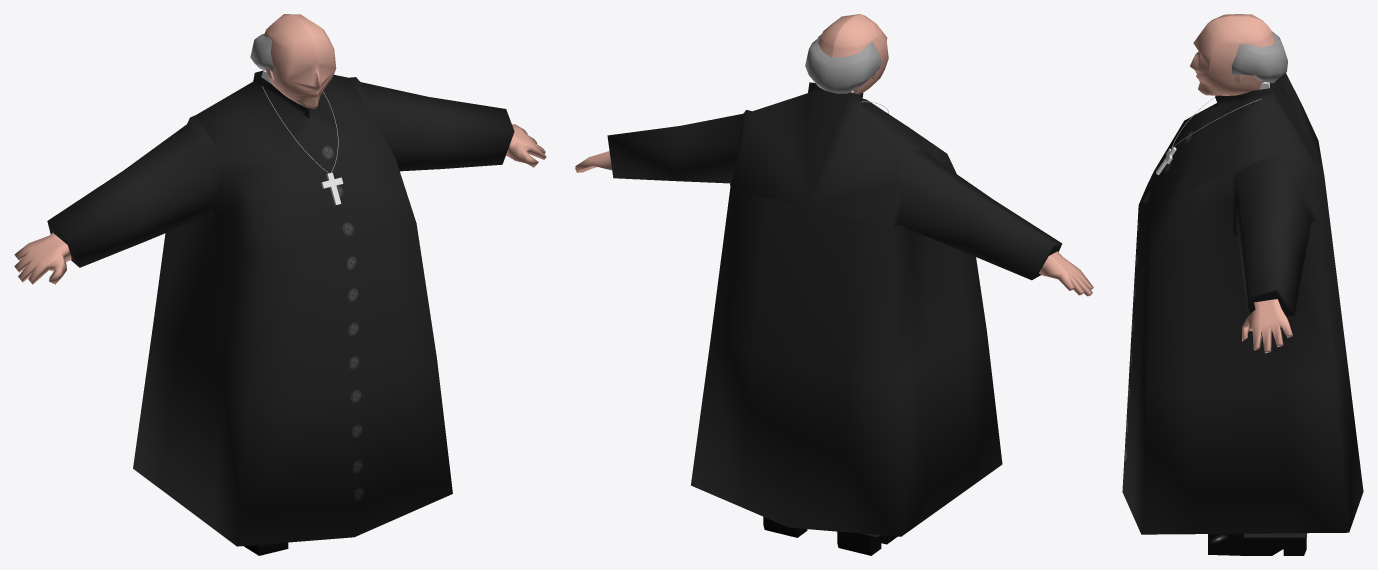
Rendered from priest_Tpose.fbx.
3 renders of one model, left to right at view 1: azimuth 30°, elevation 25°; view 2: azimuth 150°, elevation 25°; view 3: azimuth 270°, elevation 25°, orthographic. The views are drawn at different scales.
Visible parts, largest first — view 1: Cube.004, Plane.001, hand, Plane.002; view 2: Cube.004, Plane.002, Plane.001, hand, Cube; view 3: Cube.004, Plane.001, Cube, Plane.002, hand, Cube.005, Cube.001.
Boxes of the visible parts, x1=… form: Cube.004: x1=47, y1=70, x2=514, y2=546; Plane.001: x1=263, y1=14, x2=336, y2=108; hand: x1=14, y1=124, x2=546, y2=284; Plane.002: x1=250, y1=34, x2=273, y2=72; Cube.004: x1=607, y1=82, x2=1062, y2=536; Plane.002: x1=805, y1=34, x2=881, y2=93; Plane.001: x1=818, y1=14, x2=888, y2=94; hand: x1=575, y1=151, x2=1093, y2=296; Cube: x1=763, y1=517, x2=897, y2=555; Cube.004: x1=1122, y1=73, x2=1363, y2=534; Plane.001: x1=1189, y1=14, x2=1275, y2=95; Cube: x1=1208, y1=533, x2=1306, y2=555; Plane.002: x1=1231, y1=31, x2=1287, y2=82; hand: x1=1242, y1=299, x2=1292, y2=353; Cube.005: x1=1156, y1=97, x2=1261, y2=175; Cube.001: x1=1243, y1=533, x2=1306, y2=537.
Bounding box in the file's own units: 293 × 274 × 117.
Materials: 4 (1 with a texture image).
